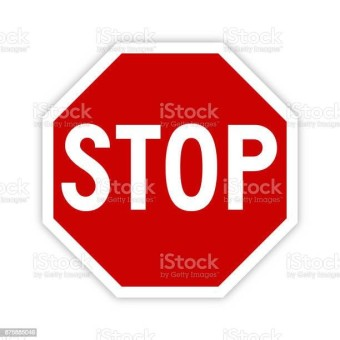SS: (41, 42, 299, 301)
